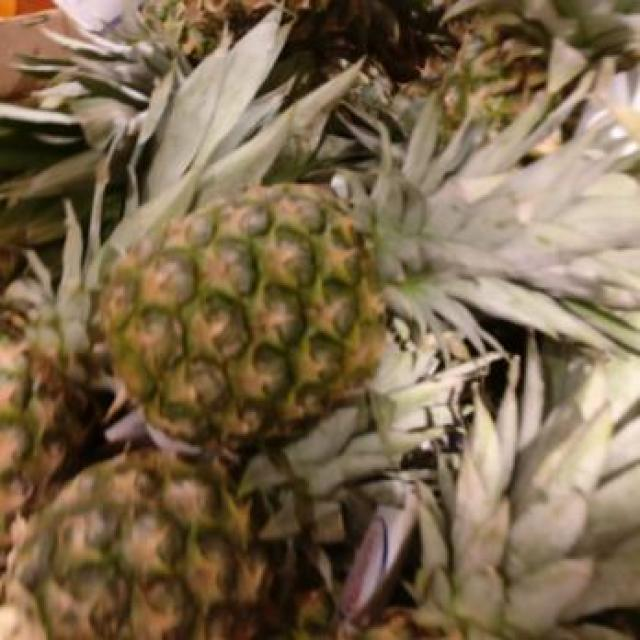pineapple: (0, 9, 362, 518), (100, 106, 640, 436), (10, 351, 491, 640)
